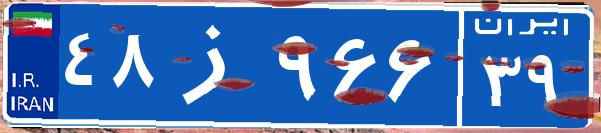3: (475, 38, 525, 113)
4: (57, 26, 110, 107)
6: (385, 28, 445, 110), (330, 28, 385, 110)
8: (110, 28, 158, 105)
9: (273, 28, 330, 110), (525, 38, 570, 115)
ز: (158, 15, 273, 115)
